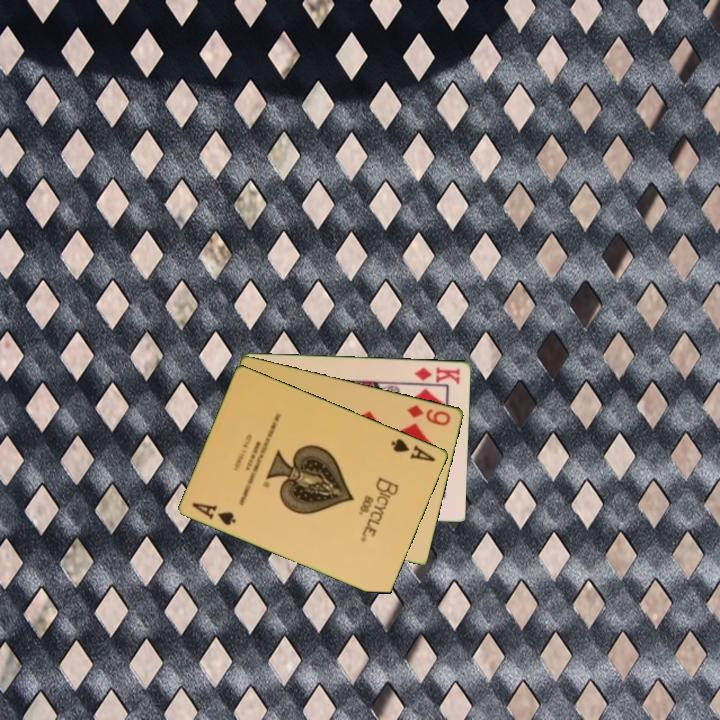9d: (404, 401, 454, 428)
As: (388, 435, 439, 464), (189, 499, 239, 528)
Kd: (411, 363, 463, 386)
